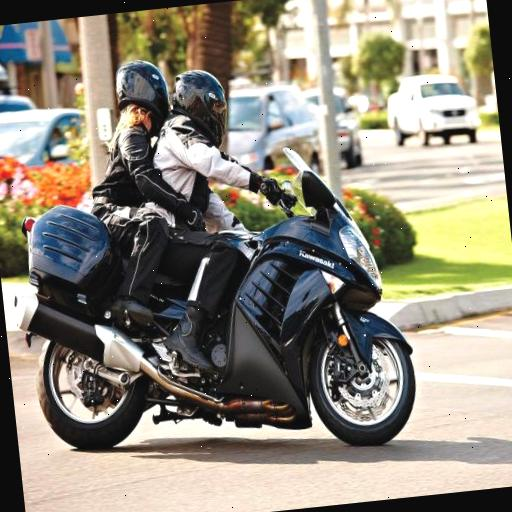helmet: (150, 30, 340, 449)
